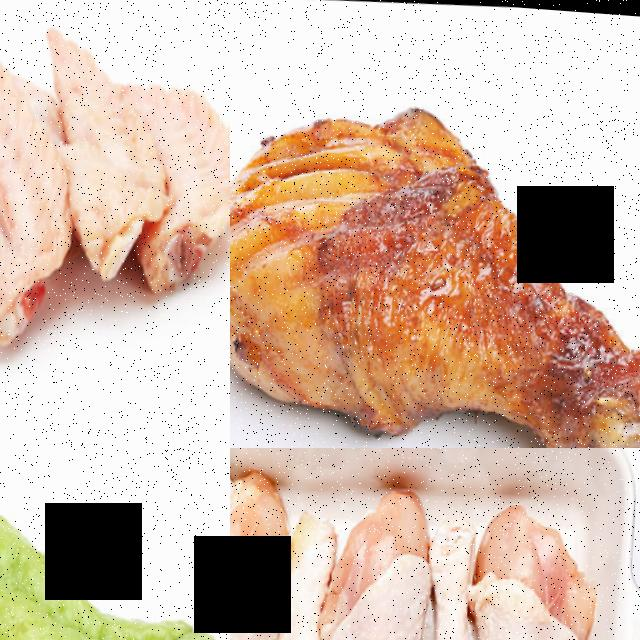chayote: (0, 454, 230, 640)
chicken thigh: (230, 58, 640, 448), (312, 480, 448, 640), (474, 502, 608, 640), (230, 505, 366, 640), (384, 506, 516, 640)
chicken wing: (0, 0, 84, 367)
